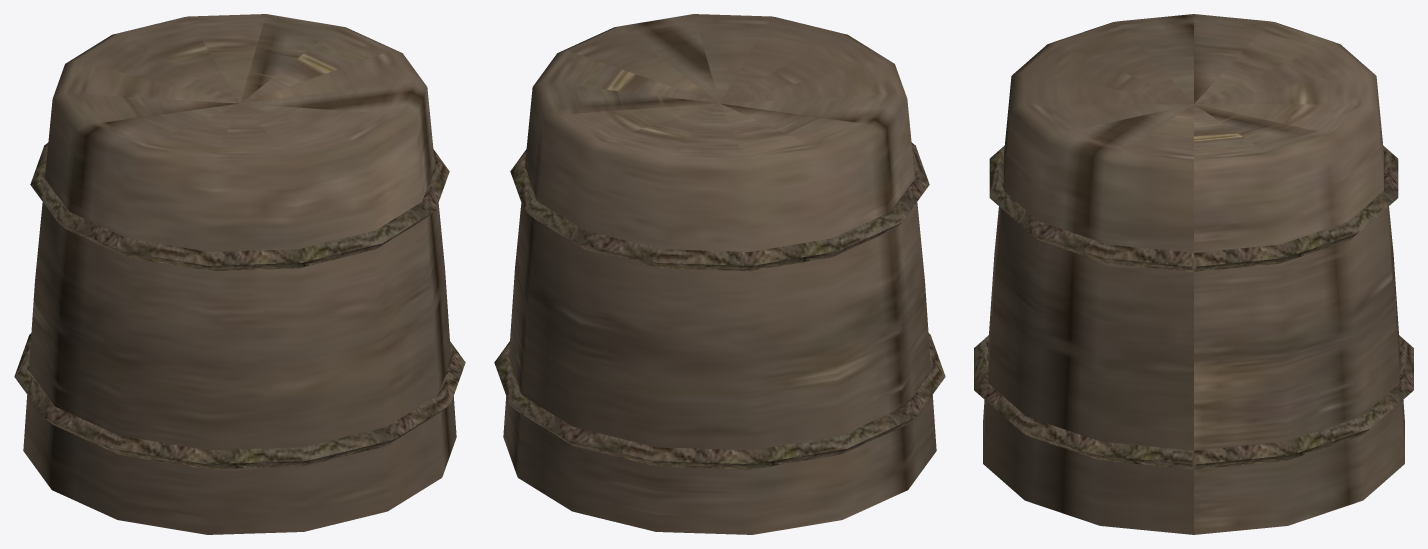
File: th_pail.glb
3 renders of one model, left to right at view 1: azimuth 30°, elevation 25°; view 2: azimuth 150°, elevation 25°; view 3: azimuth 270°, elevation 25°, orthographic.
Visible parts, largest first — view 1: th_pail; view 2: th_pail; view 3: th_pail.
Part boxes in pixels (<box>): th_pail: <box>14,14,465,534</box>; th_pail: <box>494,14,945,534</box>; th_pail: <box>974,14,1413,534</box>.
Size of the model in its own units: 0.3852 by 0.335 by 0.3757.
1 material, 1 textured.
